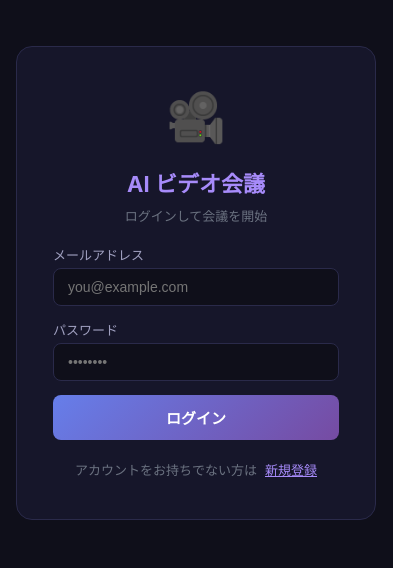
LoginScreen › パスワード 7 文字以下でバリデーションエラーを表示する
Click the button "新規登録" at (291, 470), box [265,460,317,479]
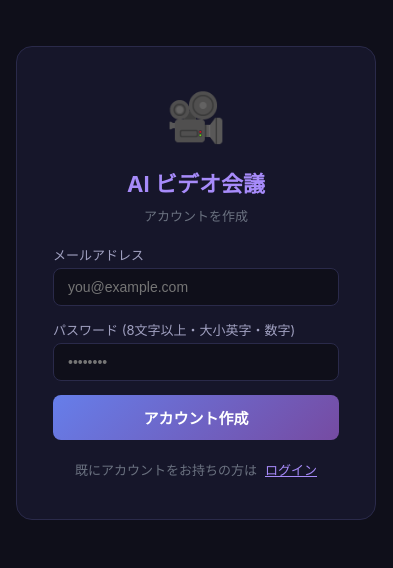
Type "new@example.com" into the field labelled "メールアドレス" at (196, 287), box [53,268,339,306]
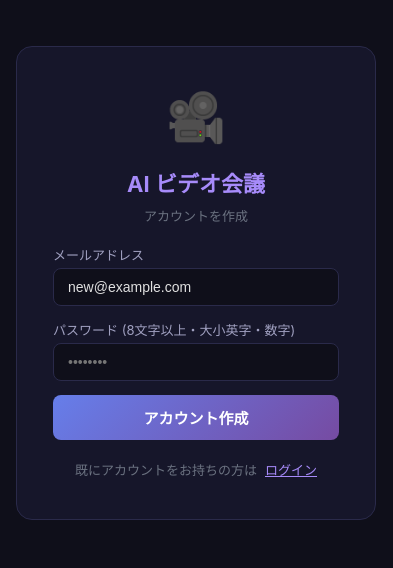
Type "short" into the password field labelled "パスワード (8文字以上・大小英字・数字)" at (196, 362), box [53,343,339,381]
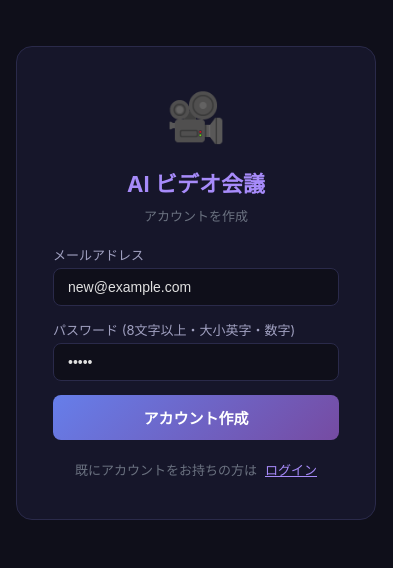
Click the button "アカウント作成" at (196, 418), box [53,395,339,440]
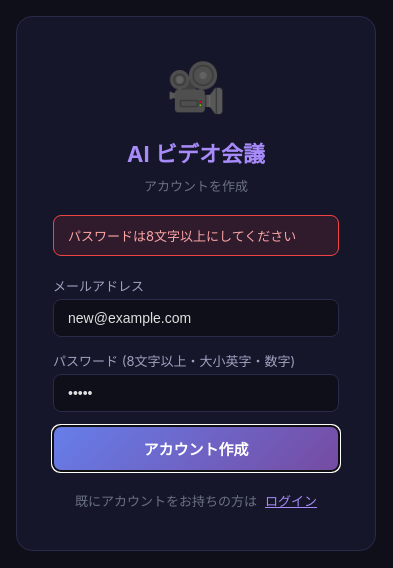
Now the text "パスワードは8文字以上にしてください" is shown, box [53,214,339,256]
